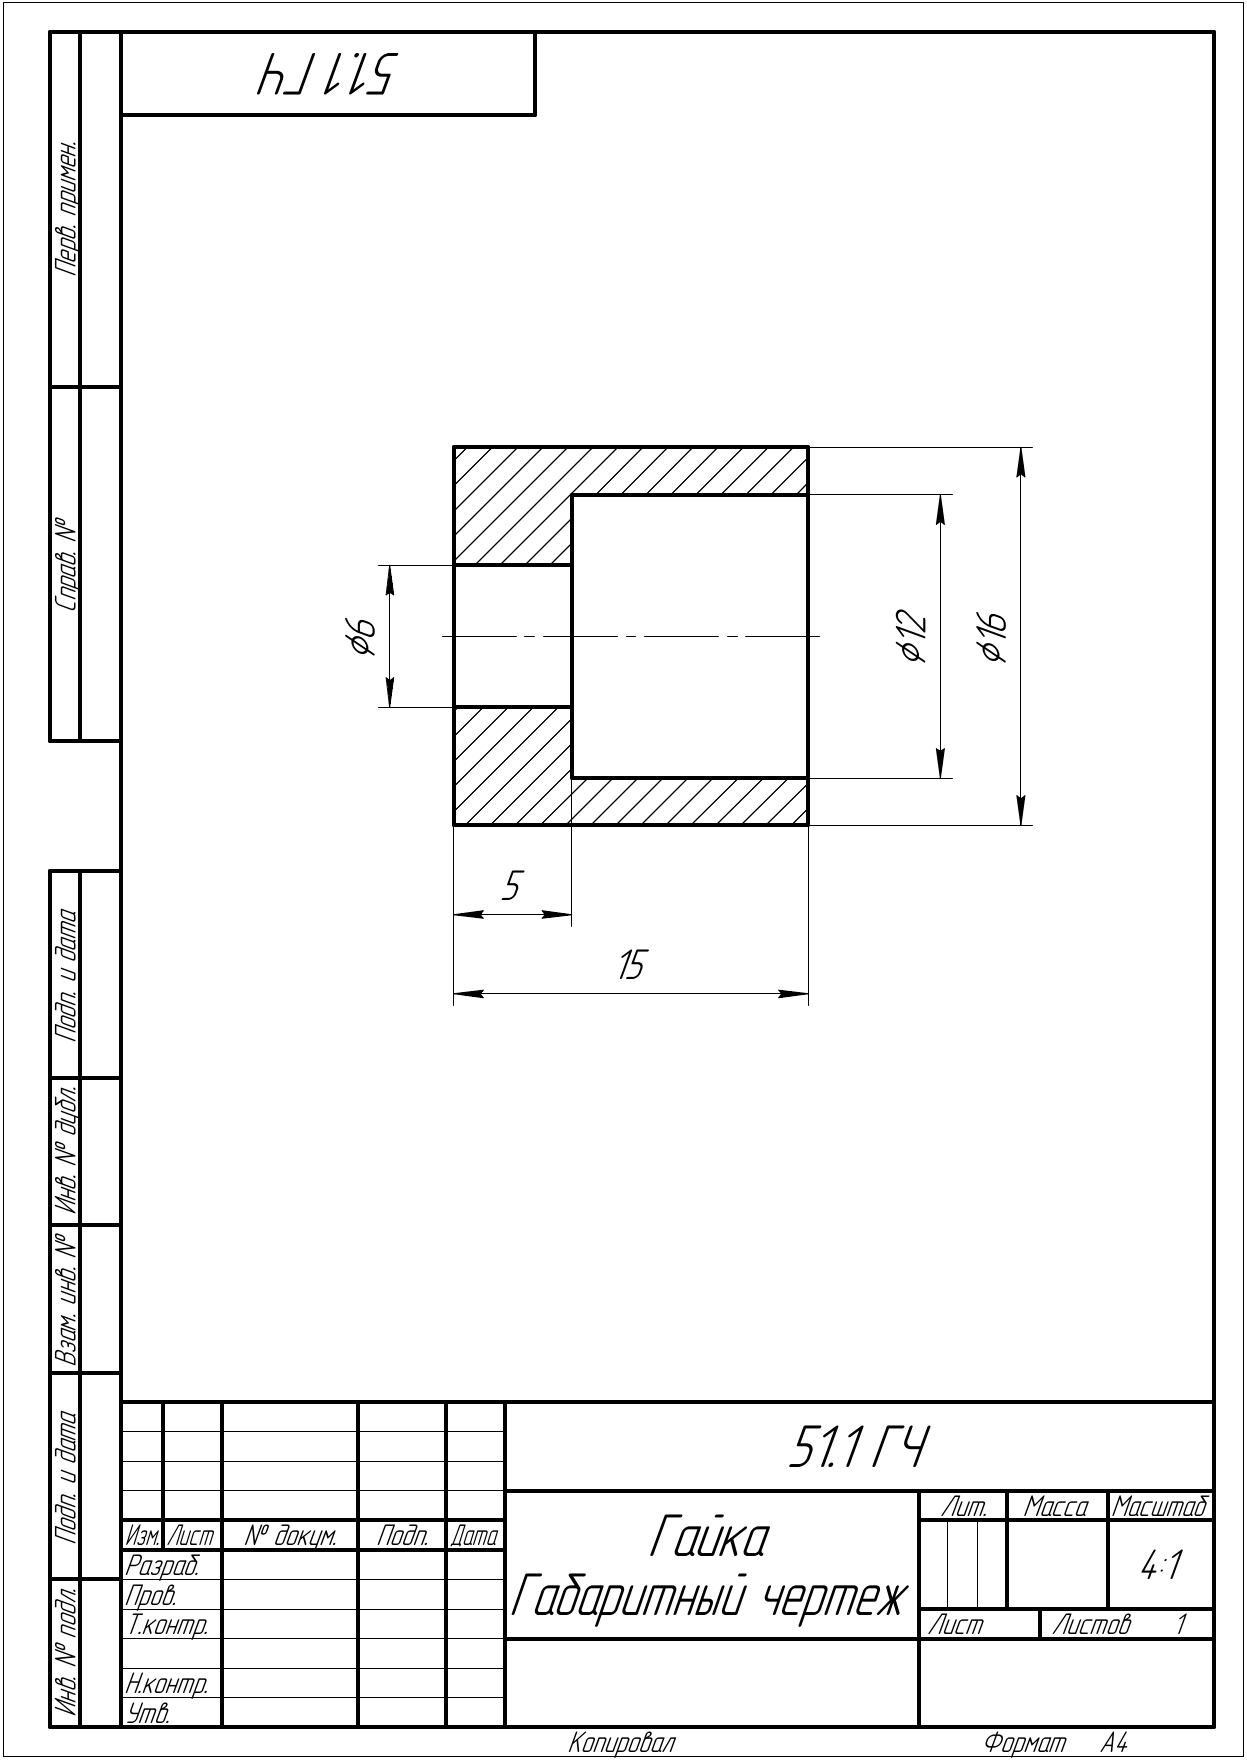Диаметральный размер: (968, 441, 1036, 831), (889, 487, 955, 781), (333, 557, 399, 715)
Линейный размер: (449, 941, 812, 1010), (447, 867, 579, 929)
